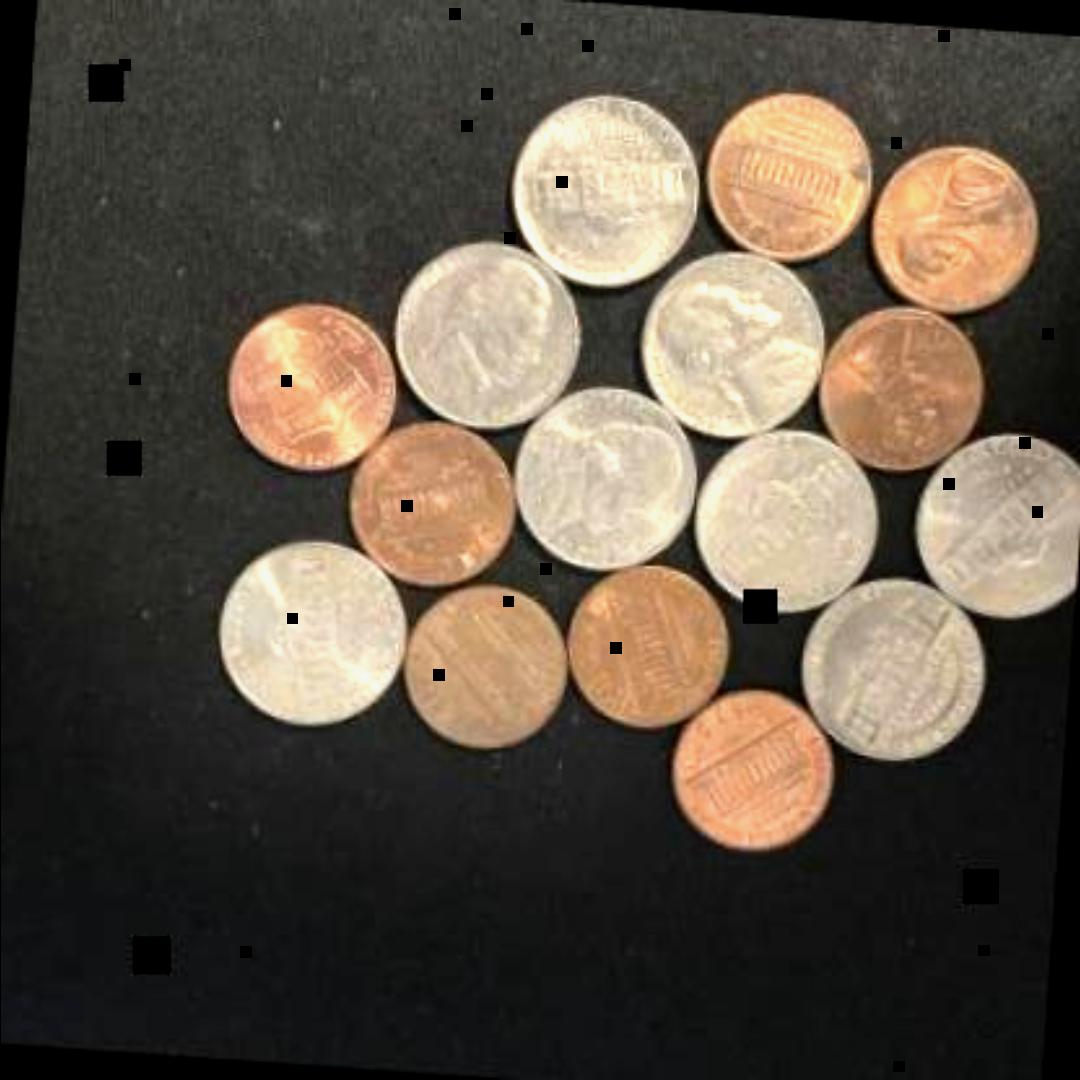Nickel: (501, 84, 706, 298), (382, 235, 588, 440), (632, 246, 838, 451), (790, 573, 990, 775), (684, 424, 884, 624), (501, 381, 706, 575), (209, 536, 414, 730), (906, 428, 1080, 626)
Penny: (558, 562, 738, 738), (864, 142, 1044, 318), (397, 581, 573, 757), (700, 91, 876, 267), (221, 300, 397, 476), (343, 420, 519, 590), (668, 686, 838, 862), (816, 306, 988, 476)
